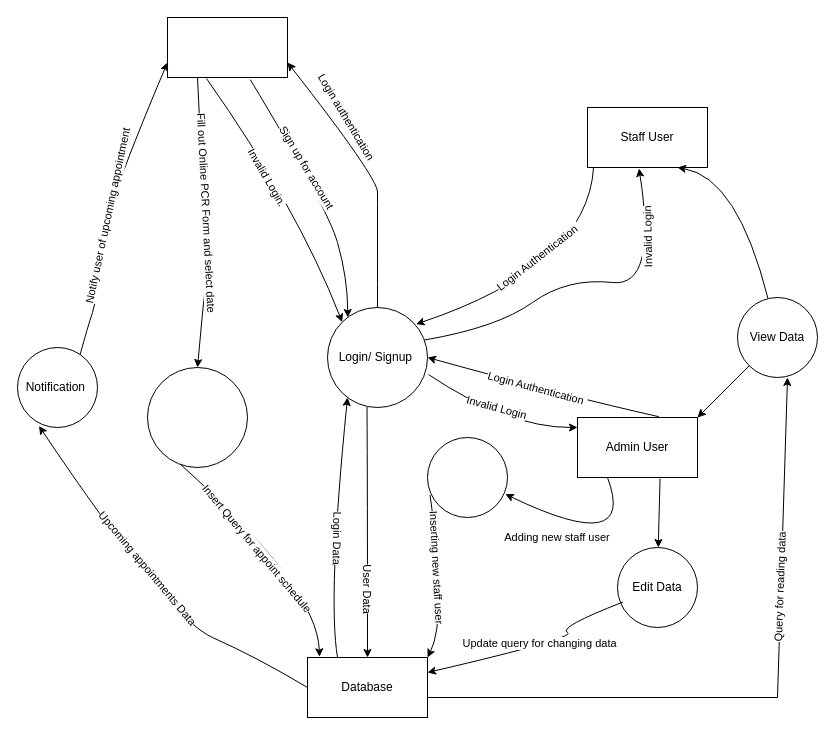
Image size: 835x735. Some labels were removed from this diagram. The centre of each missing label's shape, as x and y in pixels:
"Book Appointment" belongs at point (197, 417).
"Create Staff user" belongs at point (467, 477).
"General User" belongs at point (227, 47).
